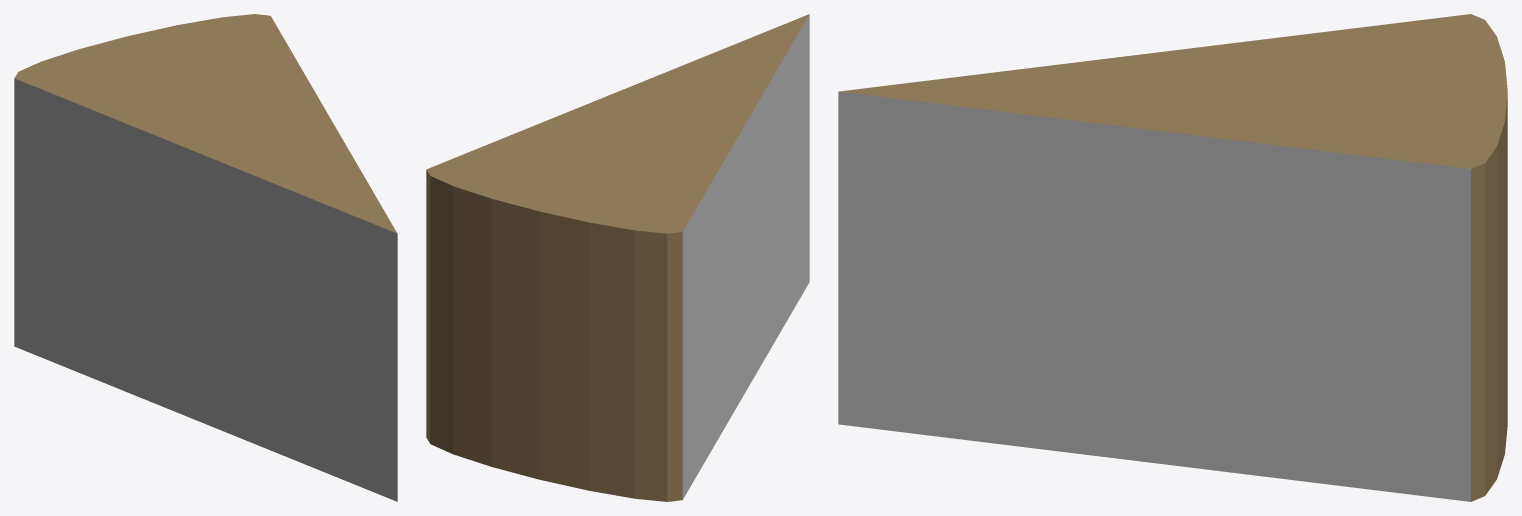
File: käase.fbx
3 renders of one model, left to right at view 1: azimuth 30°, elevation 25°; view 2: azimuth 150°, elevation 25°; view 3: azimuth 270°, elevation 25°, orthographic. The views are drawn at different scales.
Visible parts, largest first — view 1: Cylinder; view 2: Cylinder; view 3: Cylinder.
Part boxes in pixels (left/top/right/bottom): Cylinder: left=14, top=14, right=397, bottom=501; Cylinder: left=426, top=14, right=809, bottom=501; Cylinder: left=838, top=14, right=1507, bottom=501.
Size of the model in its own units: 2 by 2 by 3.65.
